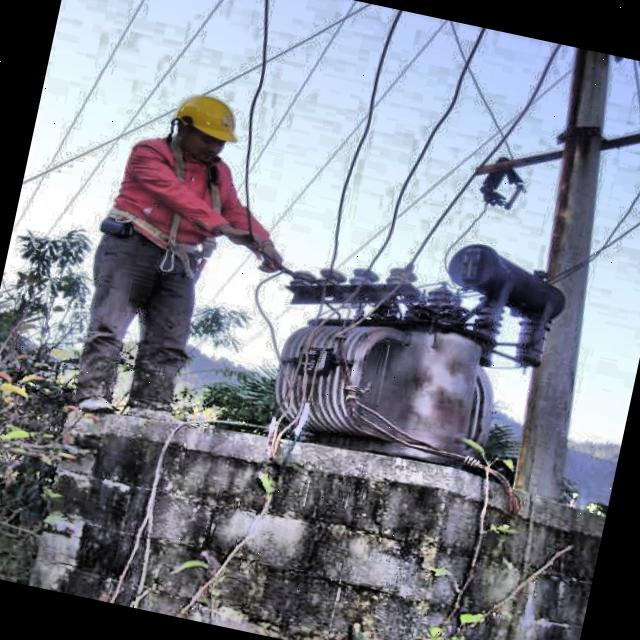helmet: (162, 85, 246, 169)
